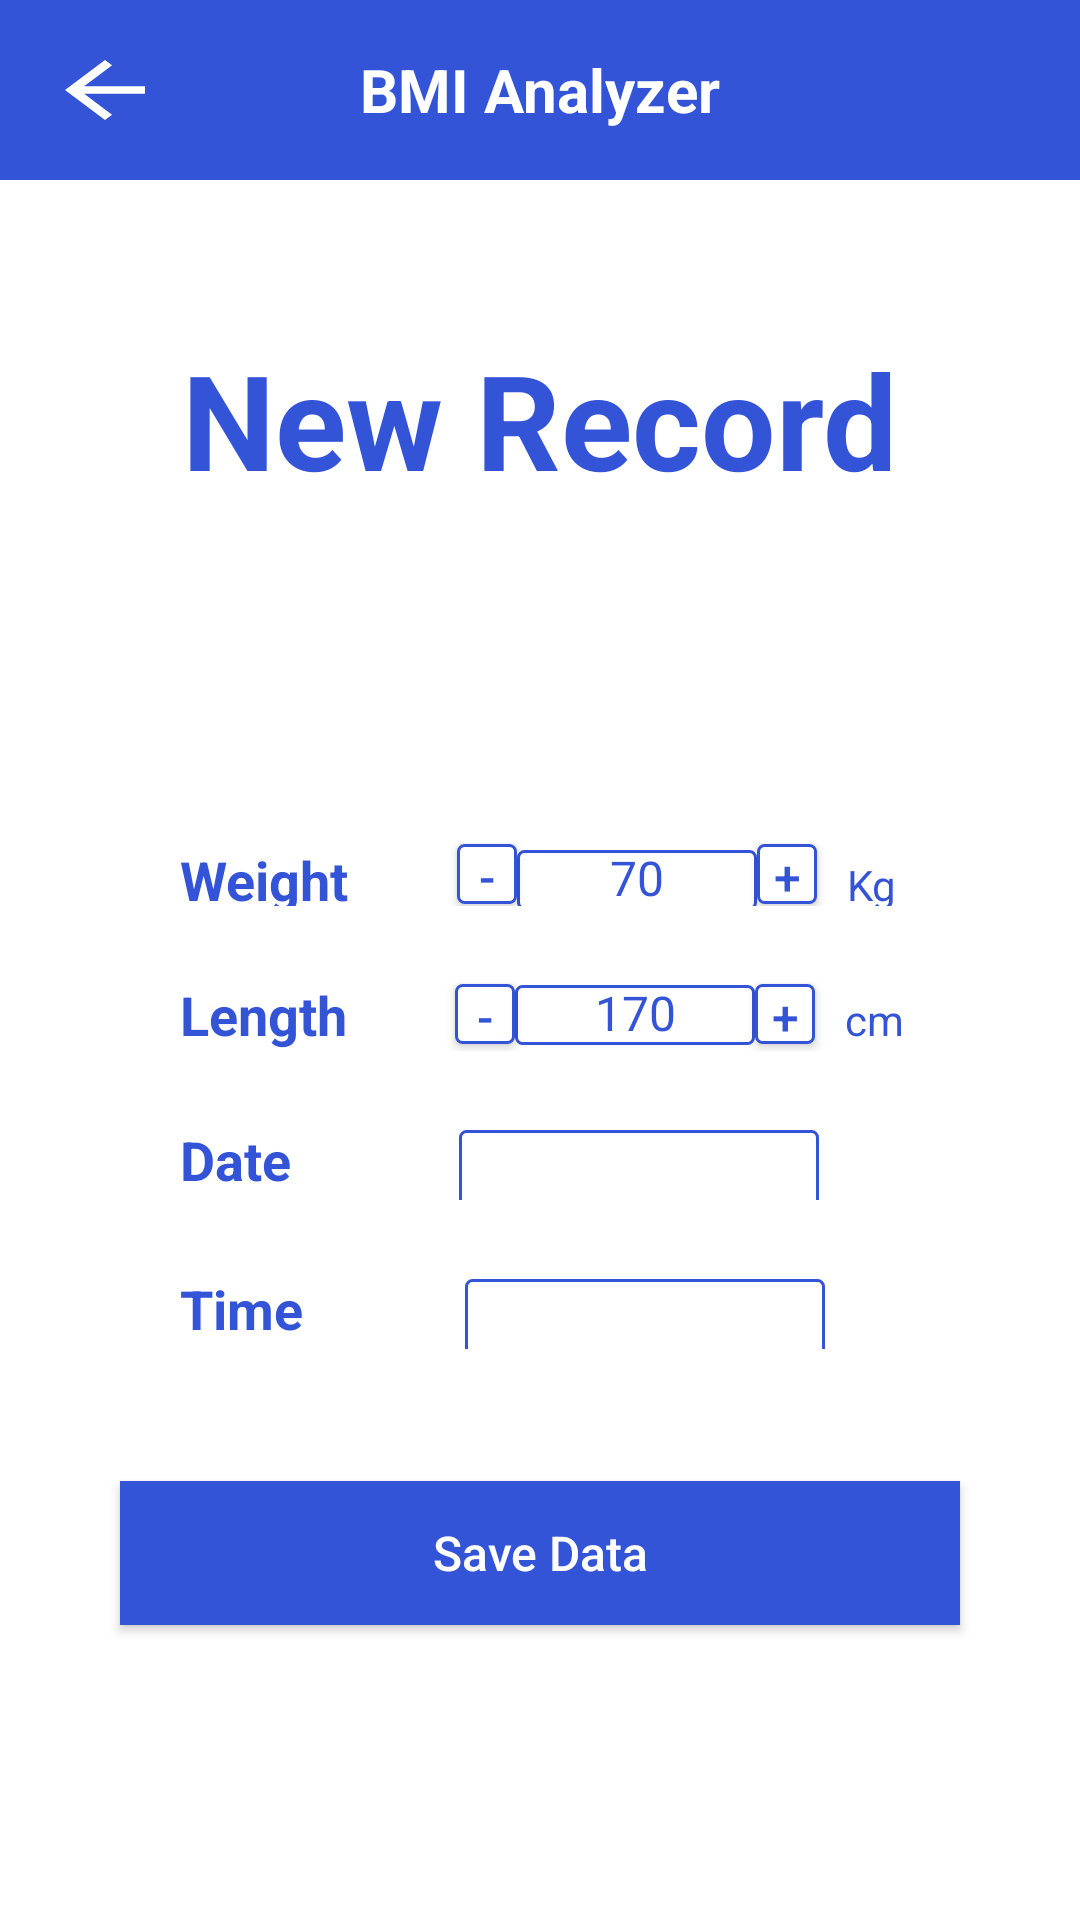

Icon bounding boxes for this 1080x1920 phone screenshot, format (x1, y1, x2, y2):
arrow back: (65, 60, 145, 120)
